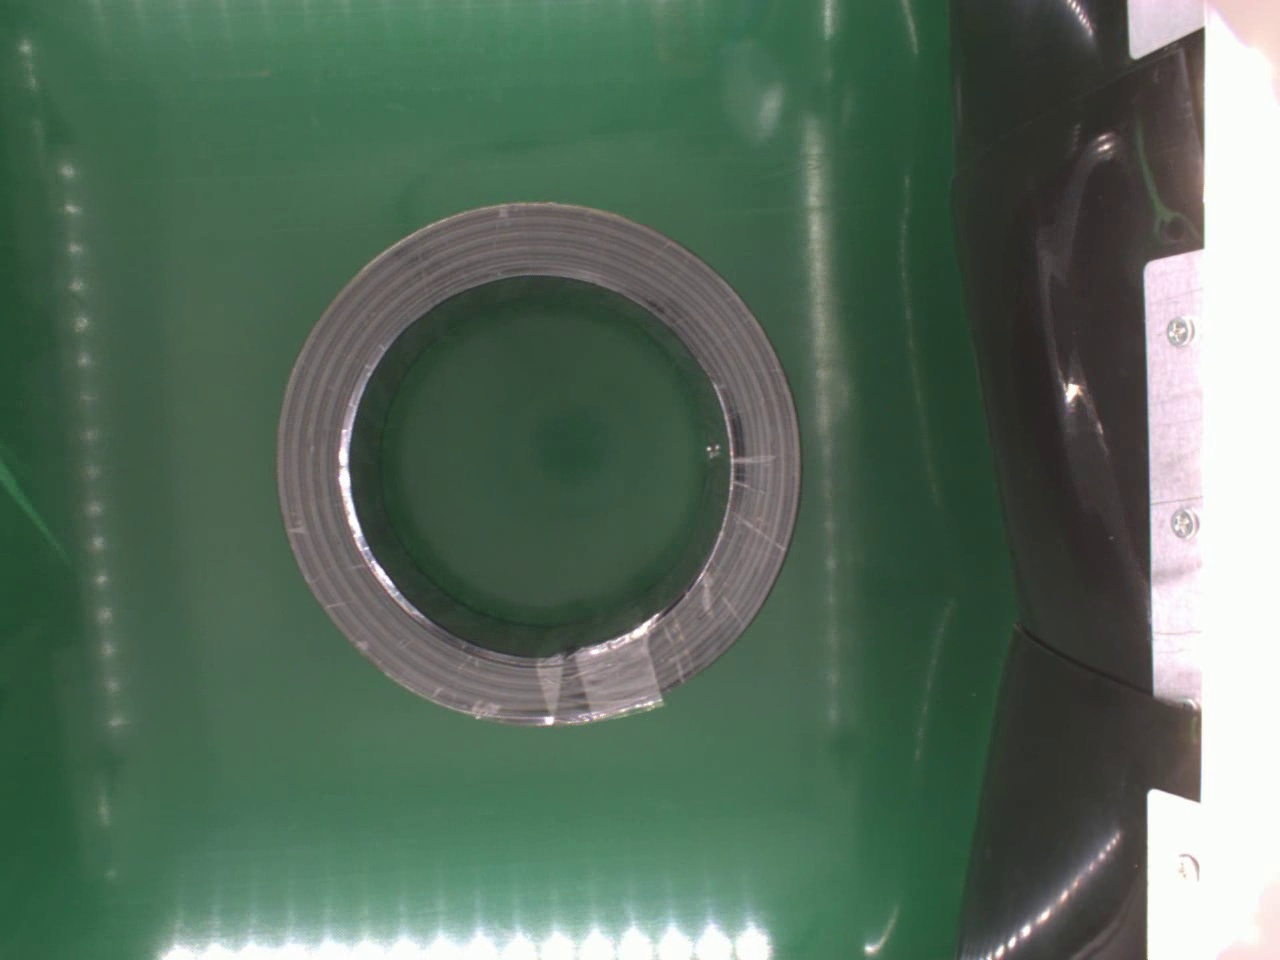black: (270, 195, 812, 735)
